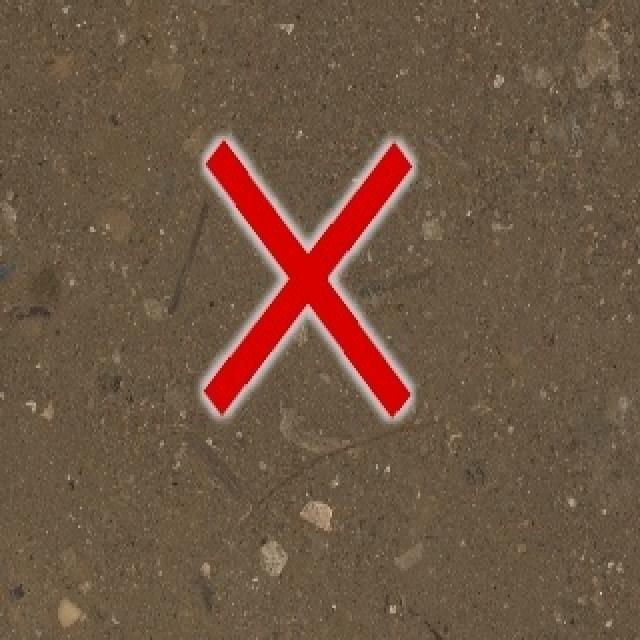x_marker: (203, 140, 411, 415)
